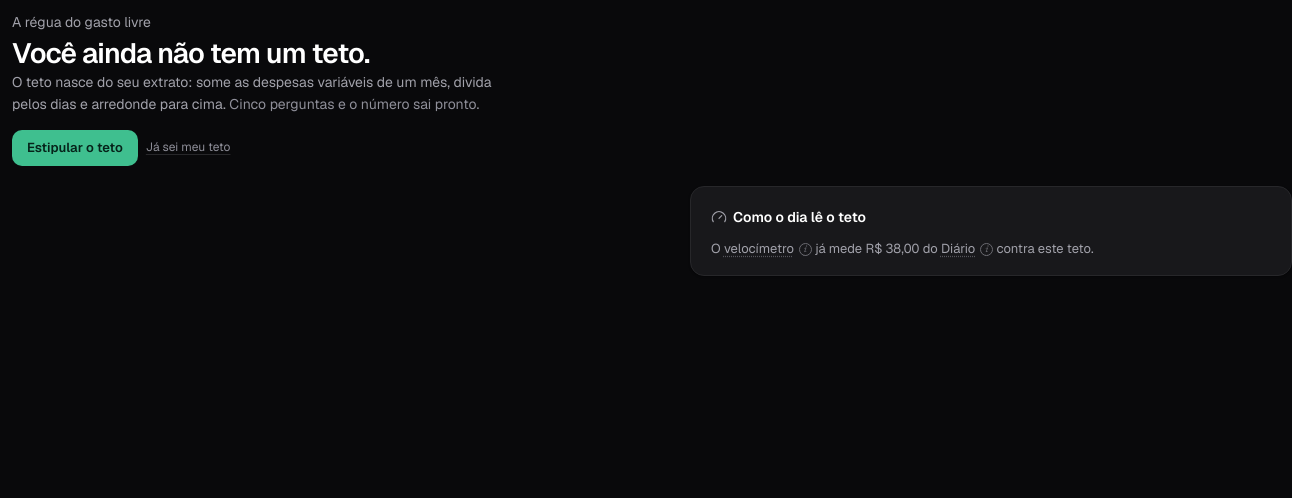
Test case: TetoScreen › sem teto: a cerimônia guiada abre nas cinco perguntas do método
The width and height of the screenshot is (1292, 498).
Check: the heading "Você ainda não tem um teto." is shown, box [12, 35, 370, 71]
Click the button "Estipular o teto" at x=75, y=148, box [12, 130, 138, 166]
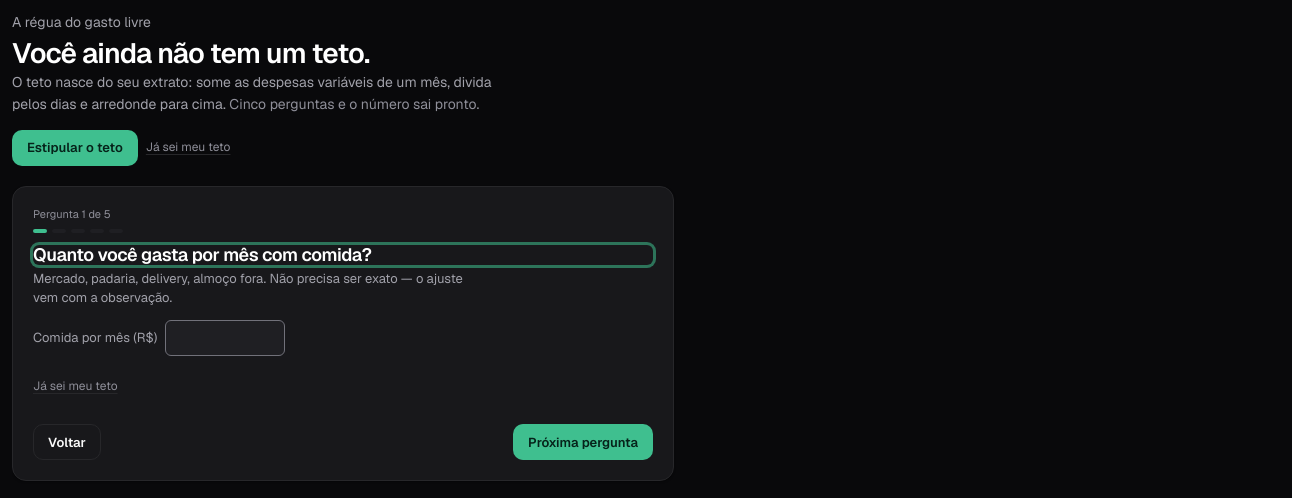
Check: the heading "Quanto você gasta por mês com comida?" is shown, box [33, 245, 653, 265]
Type "600,00" into the field labelled "Comida por mês (R$)" at x=225, y=338, box [165, 320, 285, 356]
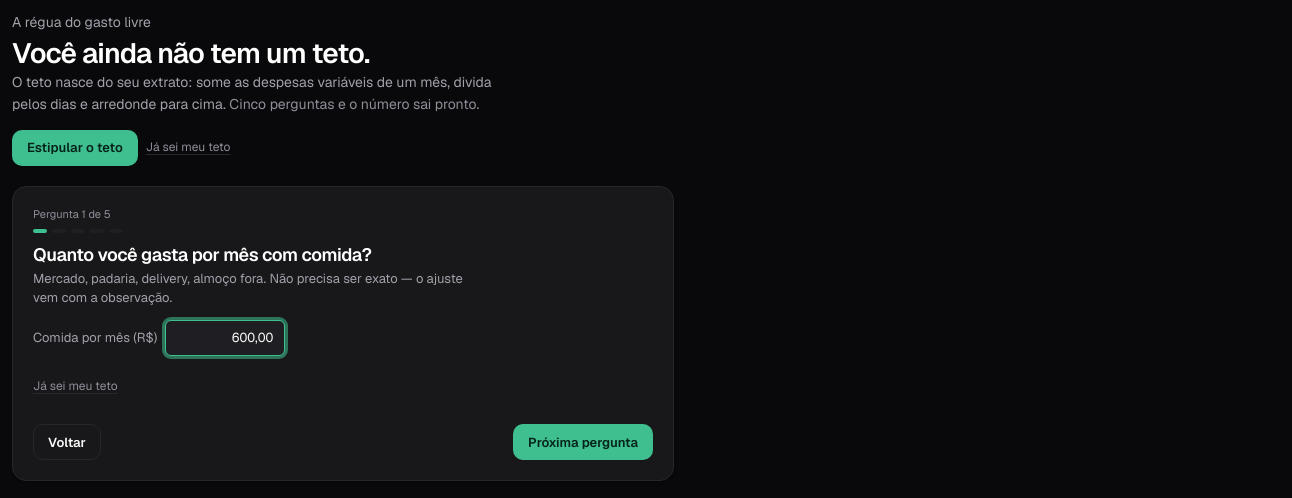
Click the button "Próxima pergunta" at x=583, y=442, box [513, 424, 653, 460]
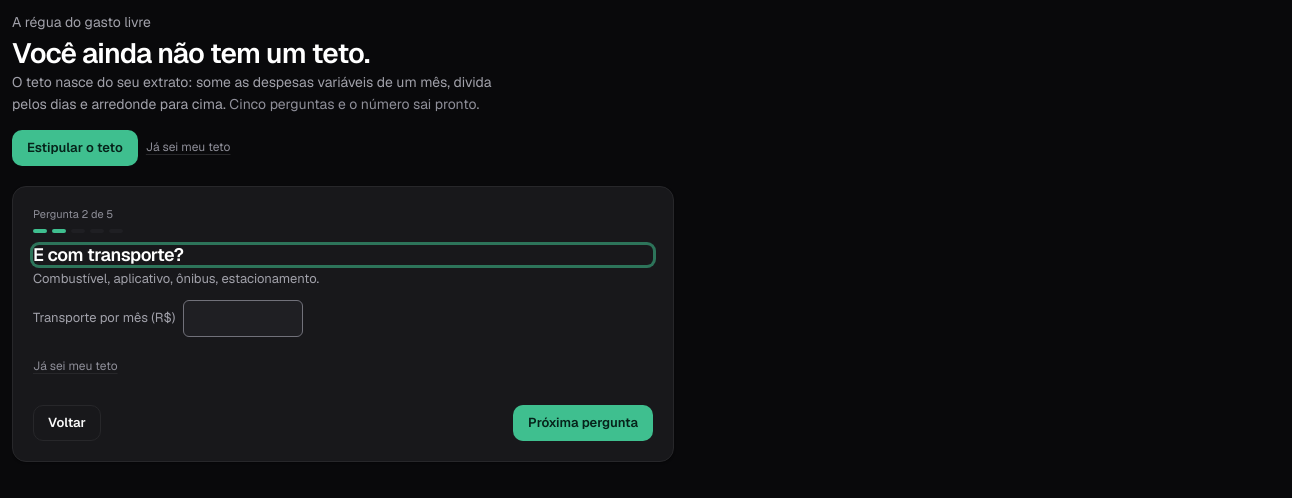
Check: the heading "E com transporte?" is shown, box [33, 245, 653, 265]
